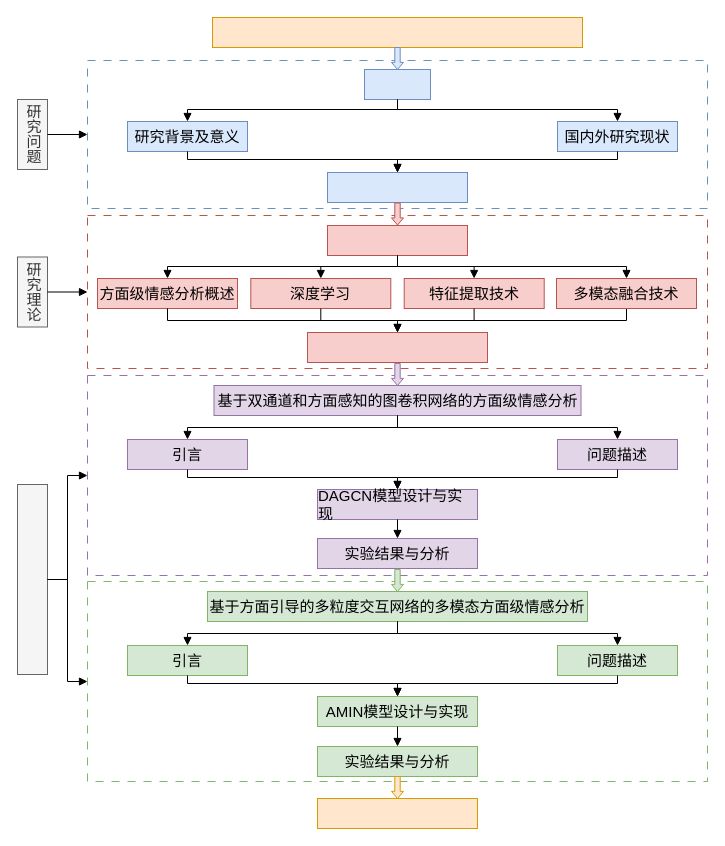
This 725x846 diagram has some shape labels left out. The shapes that lost their labels are listed below. From the top down, each one's centre as x and y in pixels, then its label:
(397,32): 基于方面感知与多通道特征交互的 方面级情感分析研究
(397,84): 绪论
(397,187): 主要研究内容与创新
(397,240): 相关理论与技术介绍
(397,347): 提供理论基础和技术支持
(32,579): 基于核心问题的解决方案
(397,813): 总结与展望
